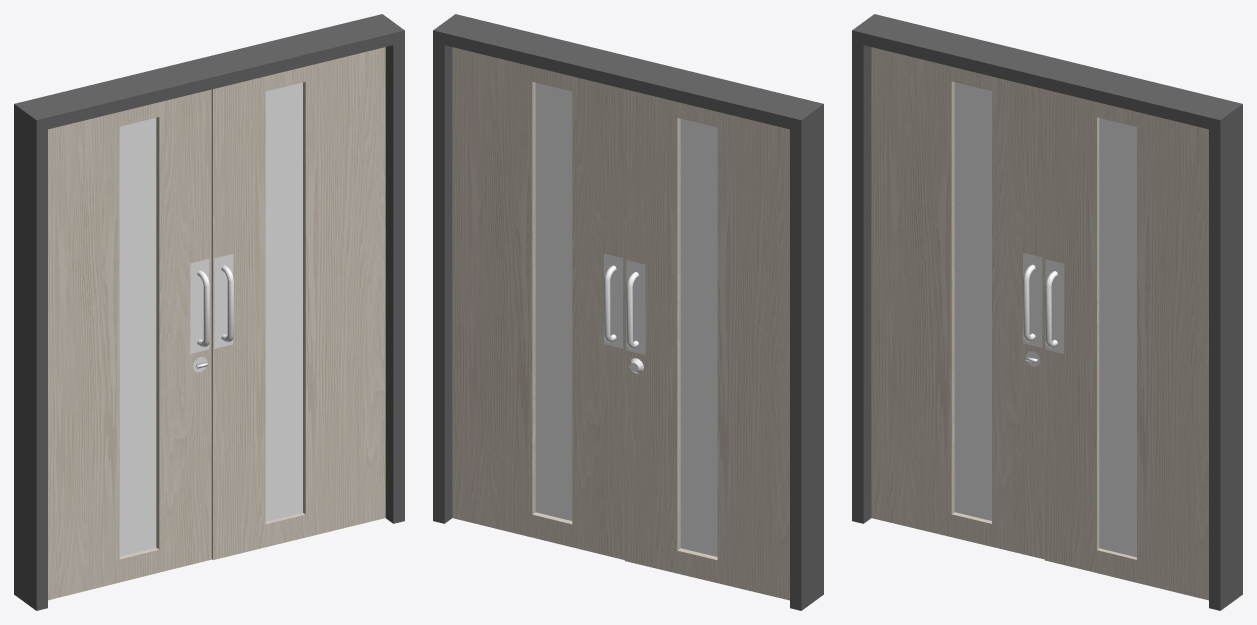
The model's file is ClassRoomDoubleDoor.fbx.
The picture shows the model from 3 angles, left to right: view 1: azimuth 30°, elevation 25°; view 2: azimuth 150°, elevation 25°; view 3: azimuth 330°, elevation 25°; orthographic projection.
Parts seen in each view (by area): view 1: RoomDoubleDoorL, RoomDoubleDoorR, RoomDoubleDoorFrame; view 2: RoomDoubleDoorL, RoomDoubleDoorR, RoomDoubleDoorFrame; view 3: RoomDoubleDoorR, RoomDoubleDoorL, RoomDoubleDoorFrame.
Part boxes in pixels (left/top/right/bottom): RoomDoubleDoorL: left=211, top=47, right=385, bottom=559; RoomDoubleDoorR: left=48, top=89, right=211, bottom=600; RoomDoubleDoorFrame: left=14, top=14, right=404, bottom=610; RoomDoubleDoorL: left=452, top=47, right=624, bottom=559; RoomDoubleDoorR: left=624, top=89, right=789, bottom=600; RoomDoubleDoorFrame: left=433, top=14, right=823, bottom=610; RoomDoubleDoorR: left=871, top=47, right=1044, bottom=559; RoomDoubleDoorL: left=1044, top=89, right=1208, bottom=600; RoomDoubleDoorFrame: left=852, top=14, right=1242, bottom=610.
Size of the model in its own units: 164 by 208 by 18.85.
